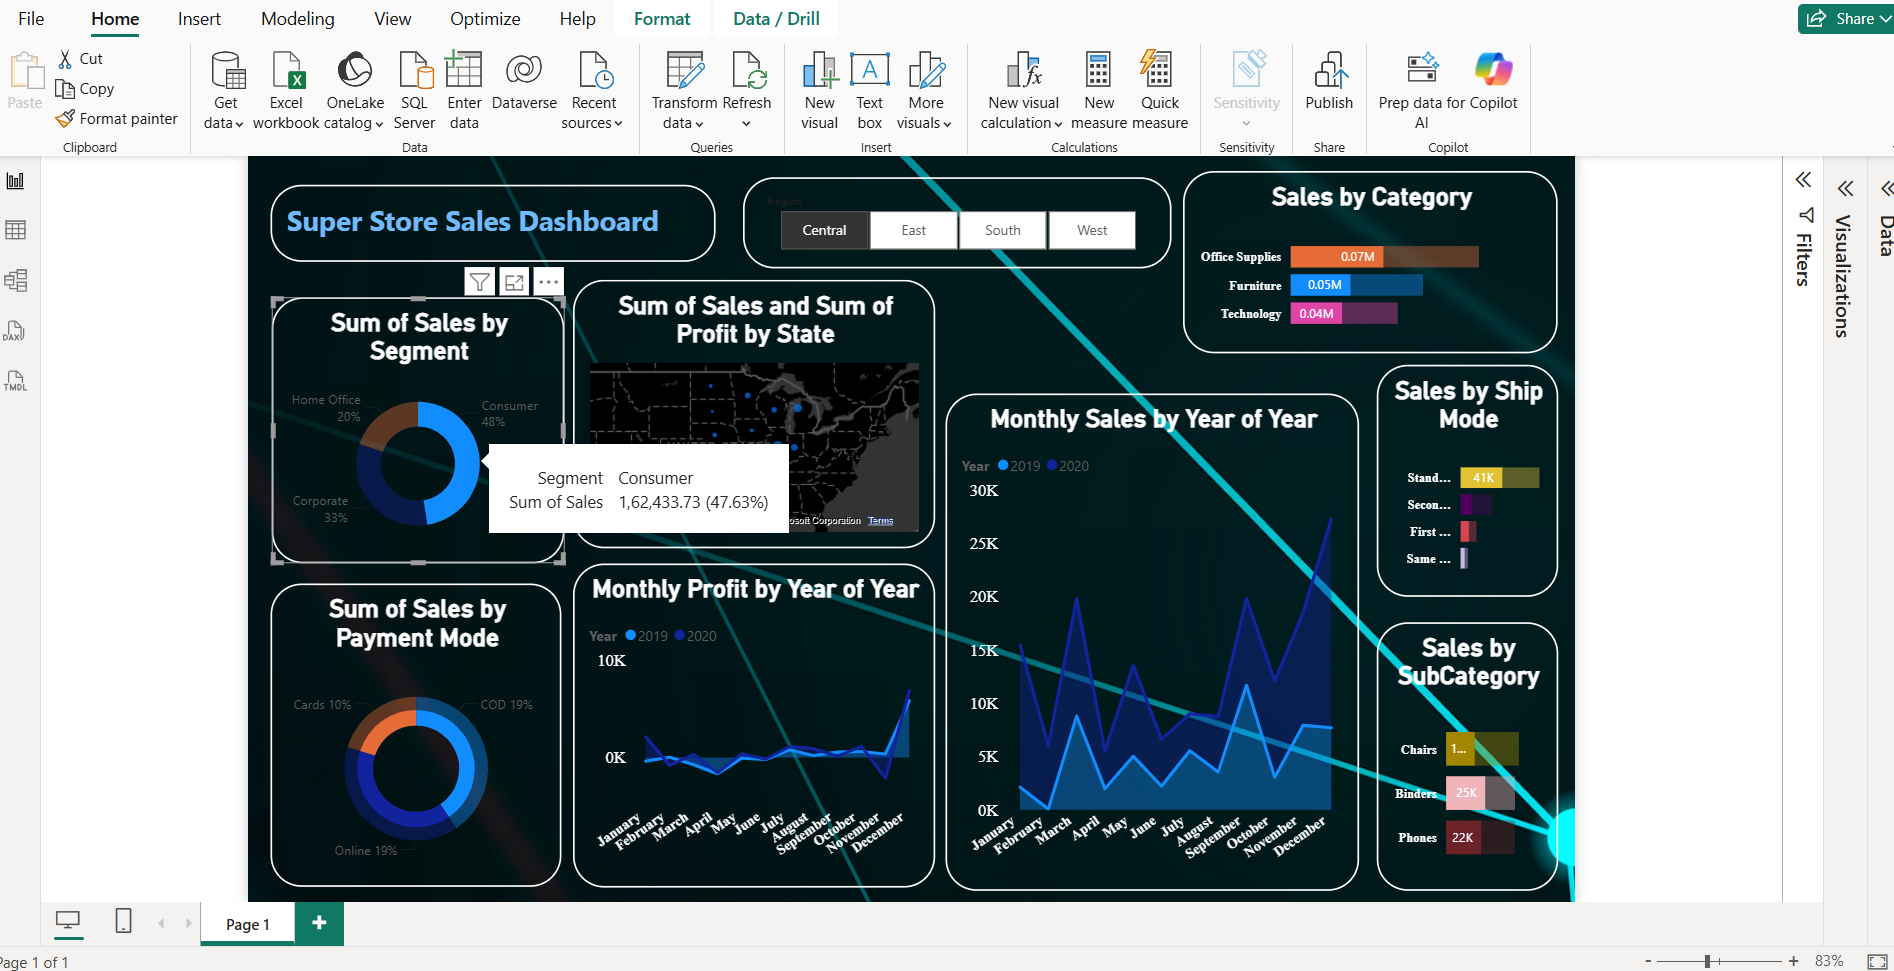

The page's visual inventory and layout, read from the dashboard file:
{"tool":"powerbi","page":{"name":"Page 1","canvas":[1280,720],"ordinal":0},"visuals":[{"type":"clusteredBarChart","title":"Sales by Category","fields":{"Category":["SuperStore_Sales_Dataset.Category"],"Y":["Sum(SuperStore_Sales_Dataset.Sales)"]},"box":[902.4,14.5,361.9,176.1],"z":0},{"type":"clusteredBarChart","title":"Sales by SubCategory","fields":{"Category":["SuperStore_Sales_Dataset.Sub-Category"],"Y":["Sum(SuperStore_Sales_Dataset.Sales)"]},"box":[1089.4,450,174.9,259.4],"z":1},{"type":"clusteredBarChart","title":"Sales by Ship Mode","fields":{"Category":["SuperStore_Sales_Dataset.Ship Mode"],"Y":["Sum(SuperStore_Sales_Dataset.Sales)"]},"box":[1089.4,201.5,174.9,224.4],"z":2},{"type":"stackedAreaChart","title":"Monthly Sales by Year of Year","fields":{"Y":["Sum(SuperStore_Sales_Dataset.Sales)"],"Category":["SuperStore_Sales_Dataset.Order Date.Variation.Date Hierarchy.Month","SuperStore_Sales_Dataset.Order Date.Variation.Date Hierarchy.Day"],"Series":["SuperStore_Sales_Dataset.Order Date.Variation.Date Hierarchy.Year"]},"box":[673.2,229.2,399.3,480.2],"z":3},{"type":"stackedAreaChart","title":"Monthly Profit by Year of Year","fields":{"Category":["SuperStore_Sales_Dataset.Order Date.Variation.Date Hierarchy.Month","SuperStore_Sales_Dataset.Order Date.Variation.Date Hierarchy.Day"],"Series":["SuperStore_Sales_Dataset.Order Date.Variation.Date Hierarchy.Year"],"Y":["Sum(SuperStore_Sales_Dataset.Profit)"]},"box":[313.7,393.3,349.9,312.5],"z":4},{"type":"map","fields":{"Category":["SuperStore_Sales_Dataset.State"],"Size":["Sum(SuperStore_Sales_Dataset.Sales)"]},"box":[313.7,119.4,349.9,259.4],"z":5},{"type":"donutChart","fields":{"Category":["SuperStore_Sales_Dataset.Payment Mode"],"Y":["Sum(SuperStore_Sales_Dataset.Sales)"]},"box":[21.7,412.6,281.1,293.2],"z":6},{"type":"slicer","fields":{"Values":["SuperStore_Sales_Dataset.Region"]},"box":[477.8,20.5,413.8,88.1],"z":8},{"type":"textbox","box":[21.7,27.7,429.5,74.8],"z":9},{"type":"donutChart","fields":{"Category":["SuperStore_Sales_Dataset.Segment"],"Y":["Sum(SuperStore_Sales_Dataset.Sales)"]},"box":[22.9,136.3,282.3,257],"z":10}]}

Visuals, with their boxes on the page's 1280x720 design canvas (x1, y1, x2, y2). These are canvas units, not pixel positions in the 1894x971 screenshot, which may show the page scaled, cropped or inside an application window:
"Sales by Category" clusteredBarChart: 902 14 1264 191
"Sales by SubCategory" clusteredBarChart: 1089 450 1264 709
"Sales by Ship Mode" clusteredBarChart: 1089 202 1264 426
"Monthly Sales by Year of Year" stackedAreaChart: 673 229 1072 709
"Monthly Profit by Year of Year" stackedAreaChart: 314 393 664 706
map - SuperStore_Sales_Dataset.State x Sum(SuperStore_Sales_Dataset.Sales): 314 119 664 379
donutChart - SuperStore_Sales_Dataset.Payment Mode x Sum(SuperStore_Sales_Dataset.Sales): 22 413 303 706
slicer - SuperStore_Sales_Dataset.Region: 478 20 892 109
textbox: 22 28 451 102
donutChart - SuperStore_Sales_Dataset.Segment x Sum(SuperStore_Sales_Dataset.Sales): 23 136 305 393
